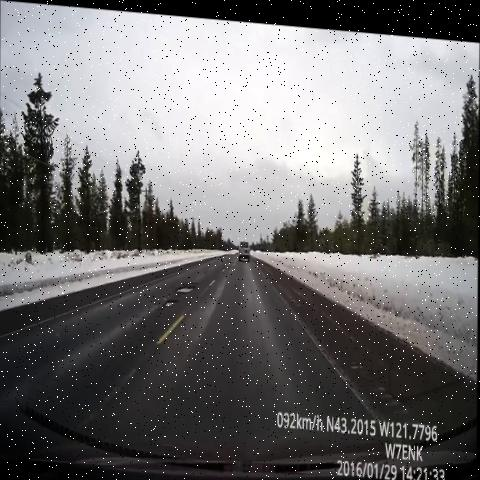pothole: (172, 269, 202, 296), (154, 289, 181, 315)
